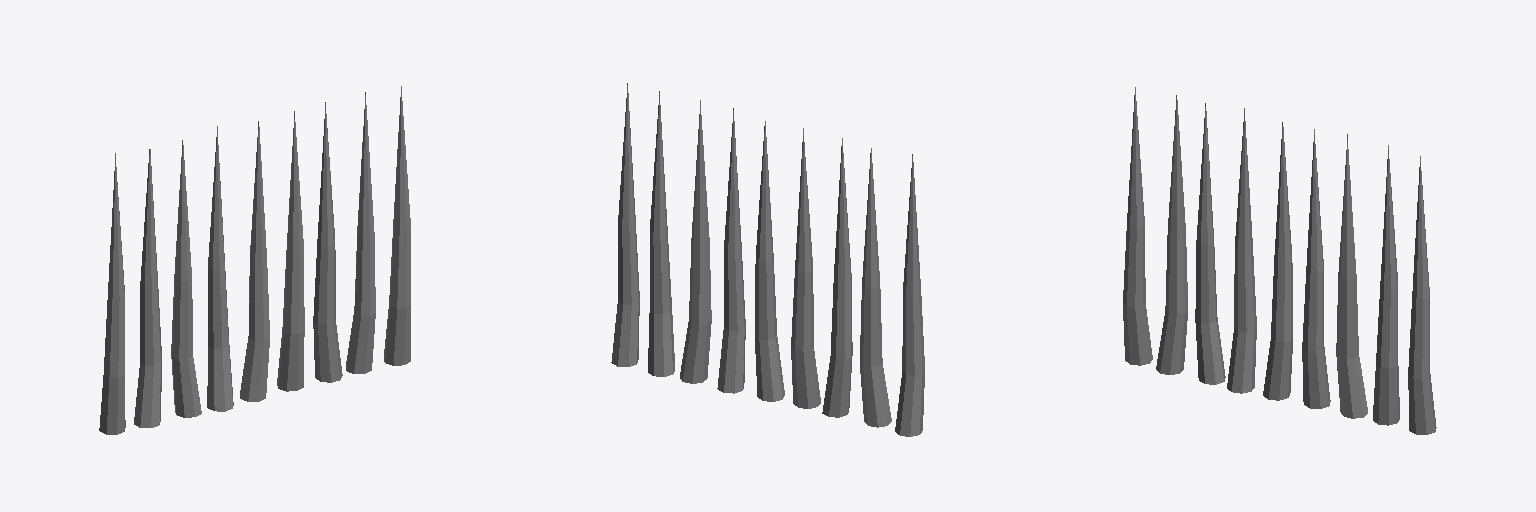
The model's file is pinchos_puerta_pinchos.obj.
3 renders of one model, left to right at view 1: azimuth 30°, elevation 25°; view 2: azimuth 150°, elevation 25°; view 3: azimuth 330°, elevation 25°, orthographic.
Visible parts, largest first — view 1: PuertaPinchos; view 2: PuertaPinchos; view 3: PuertaPinchos.
Part boxes in pixels (x1,y1,x2,y2): PuertaPinchos: (99, 86, 410, 434); PuertaPinchos: (611, 83, 924, 436); PuertaPinchos: (1123, 87, 1436, 434).
Bounding box in the file's own units: 13.88 × 12 × 1.37.